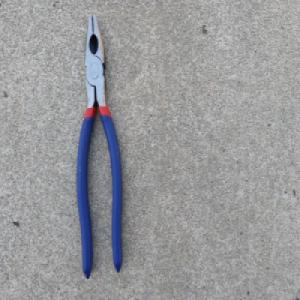Pliers: (75, 10, 125, 280)
